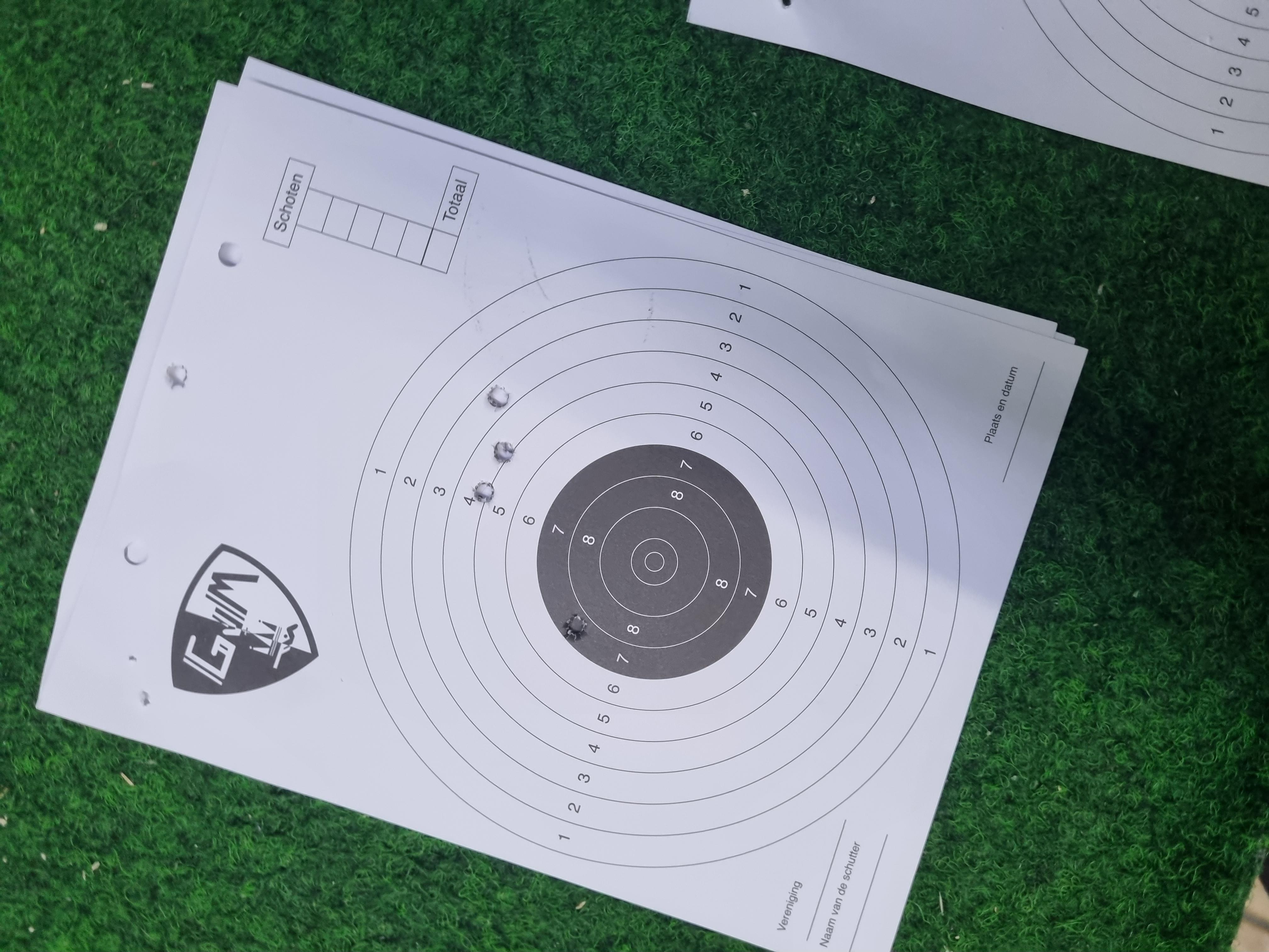hole: (415, 423, 450, 441), (720, 366, 756, 383), (651, 370, 680, 386), (599, 355, 628, 371)
